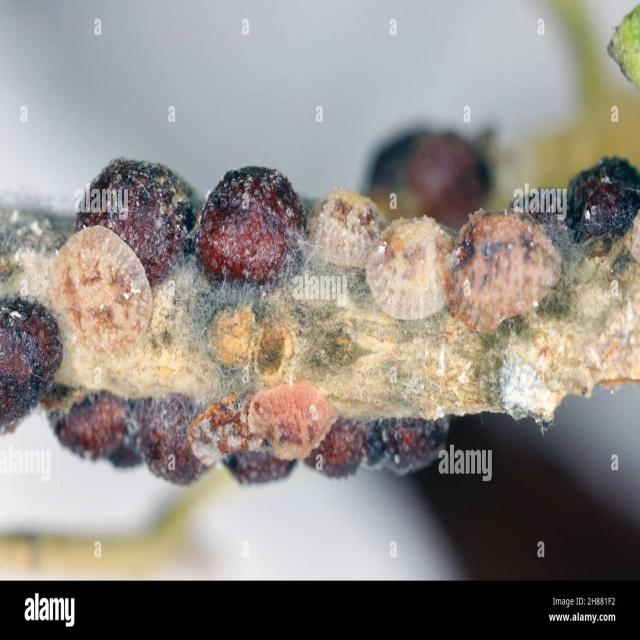Black Scale: (0, 158, 640, 484)
